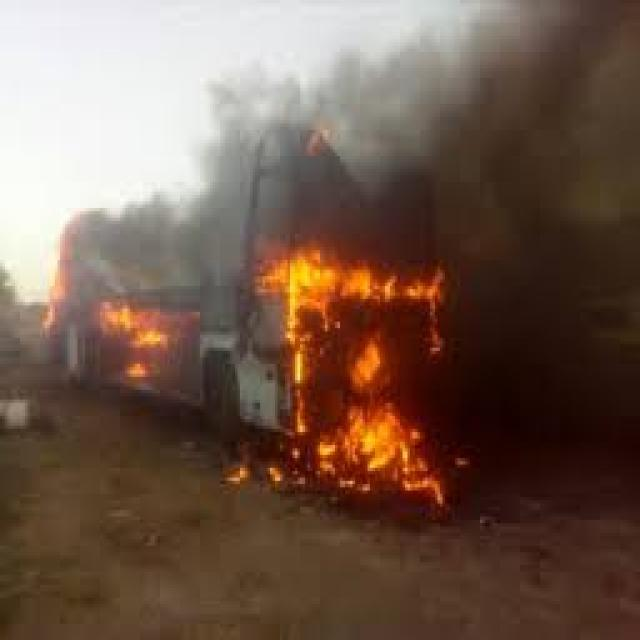Fire: (272, 248, 432, 474)
Smoke: (200, 3, 640, 254)
